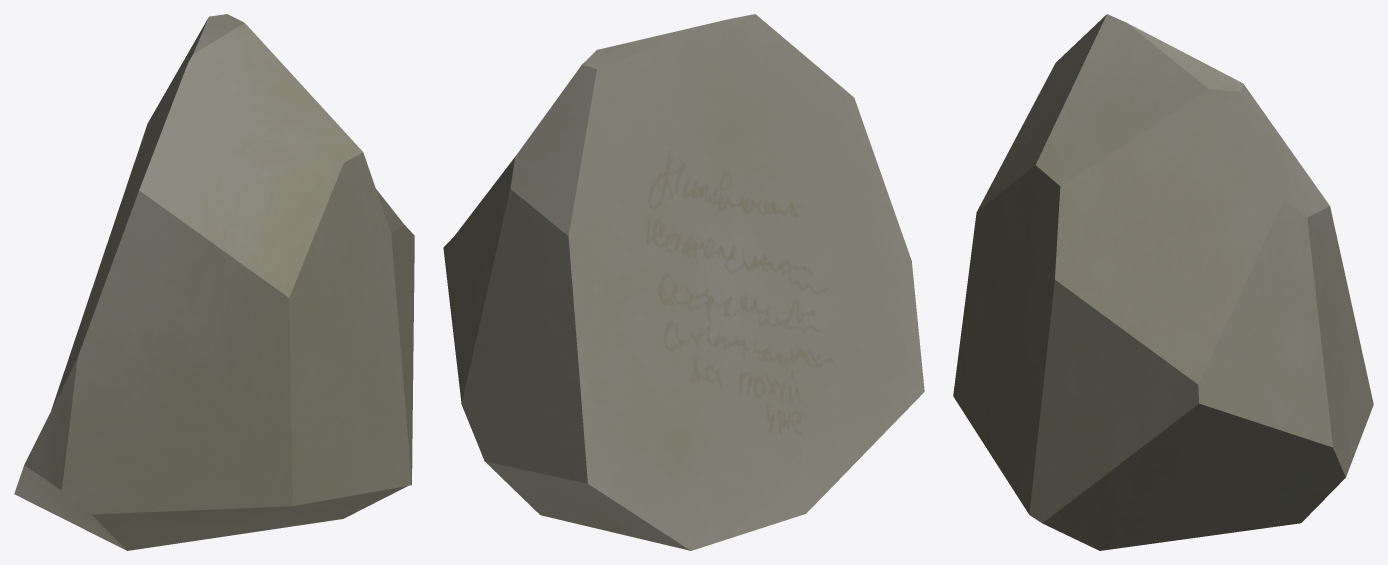
File: stone.fbx
The picture shows the model from 3 angles, left to right: view 1: azimuth 30°, elevation 25°; view 2: azimuth 150°, elevation 25°; view 3: azimuth 270°, elevation 25°; orthographic projection. The views are drawn at different scales.
Visible parts, largest first — view 1: Rock.002; view 2: Rock.002; view 3: Rock.002.
Boxes of the visible parts, box(x1,y1,x2,y2) form: Rock.002: box(14, 14, 414, 550); Rock.002: box(443, 14, 924, 550); Rock.002: box(953, 14, 1373, 550).
Bounding box in the file's own units: 933 × 980 × 801.
